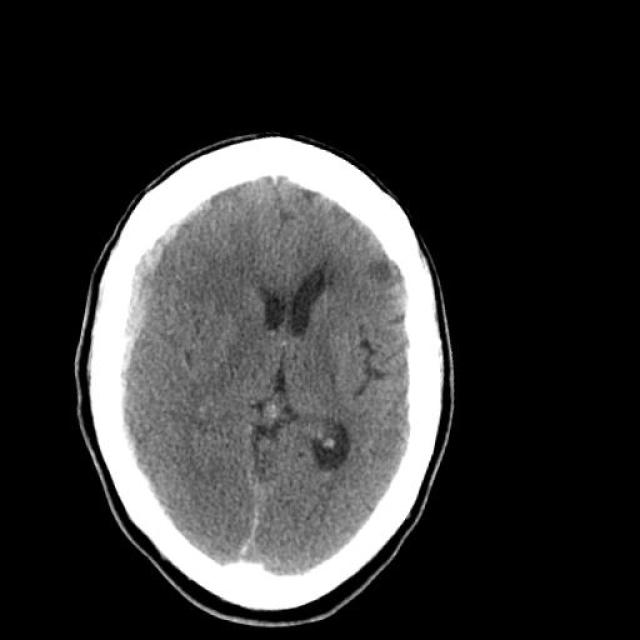Subdural: (72, 165, 236, 413)
